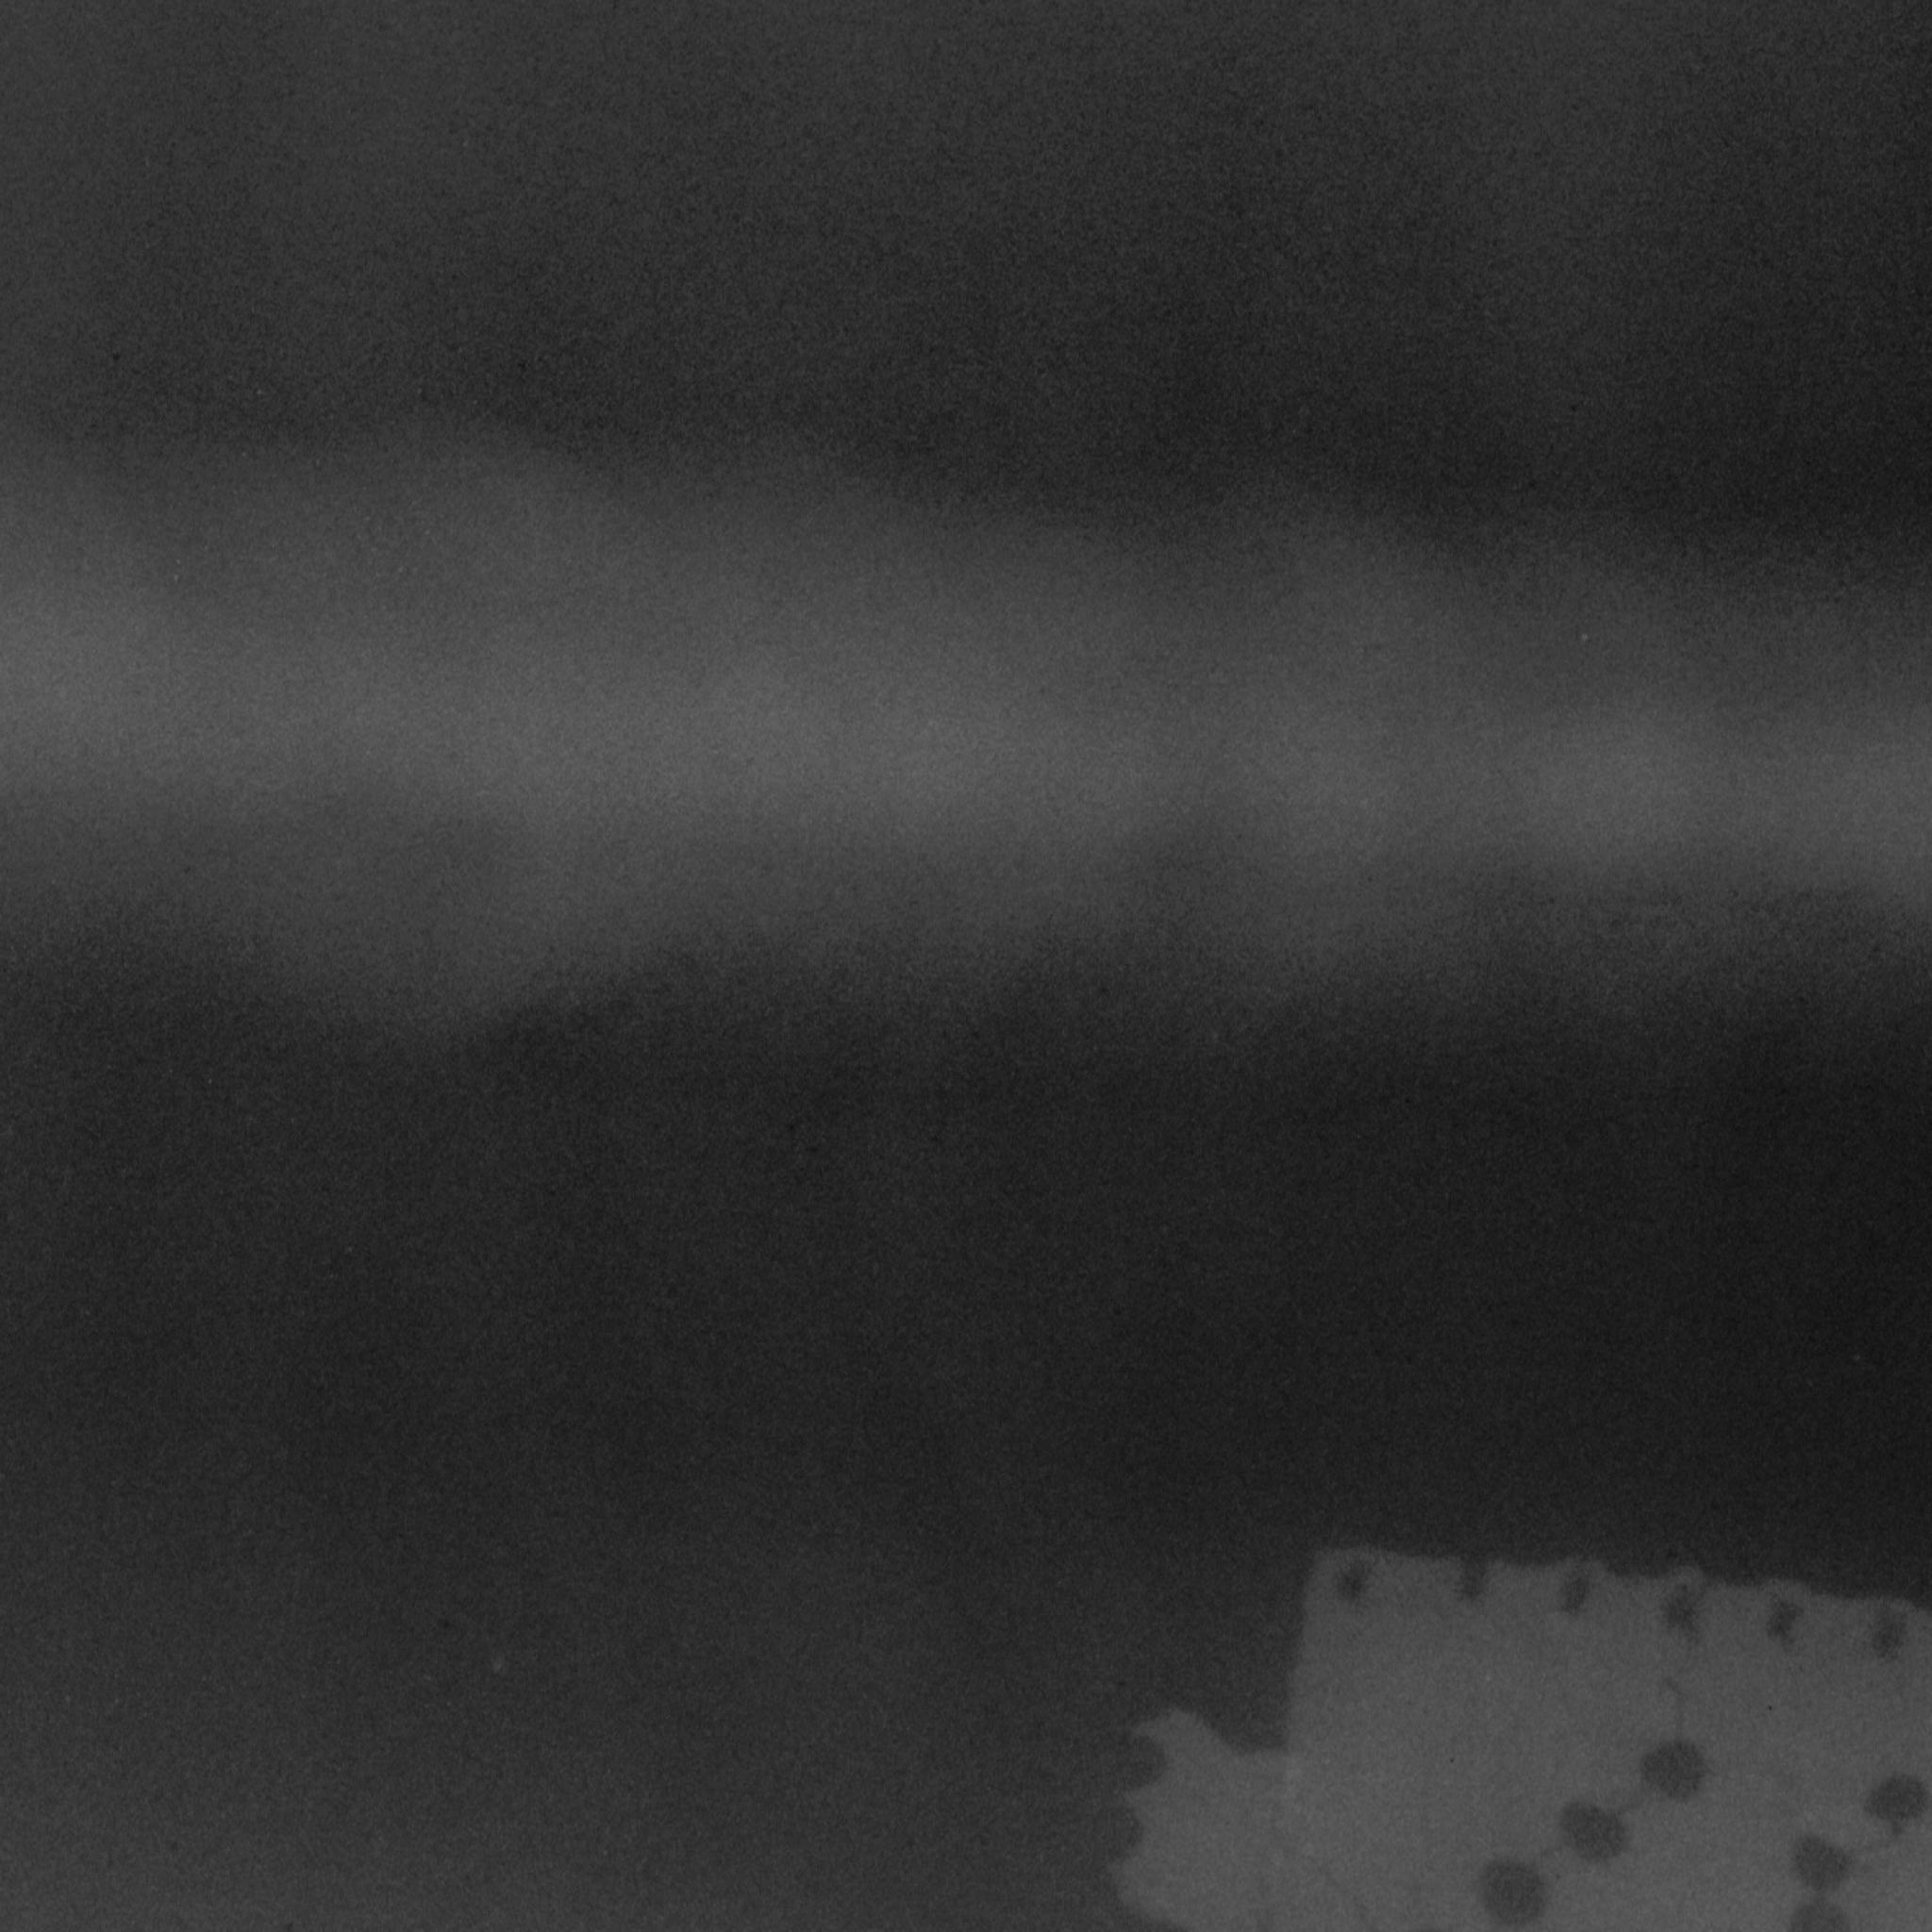Sem defeitos: (0, 382, 1932, 1027)
